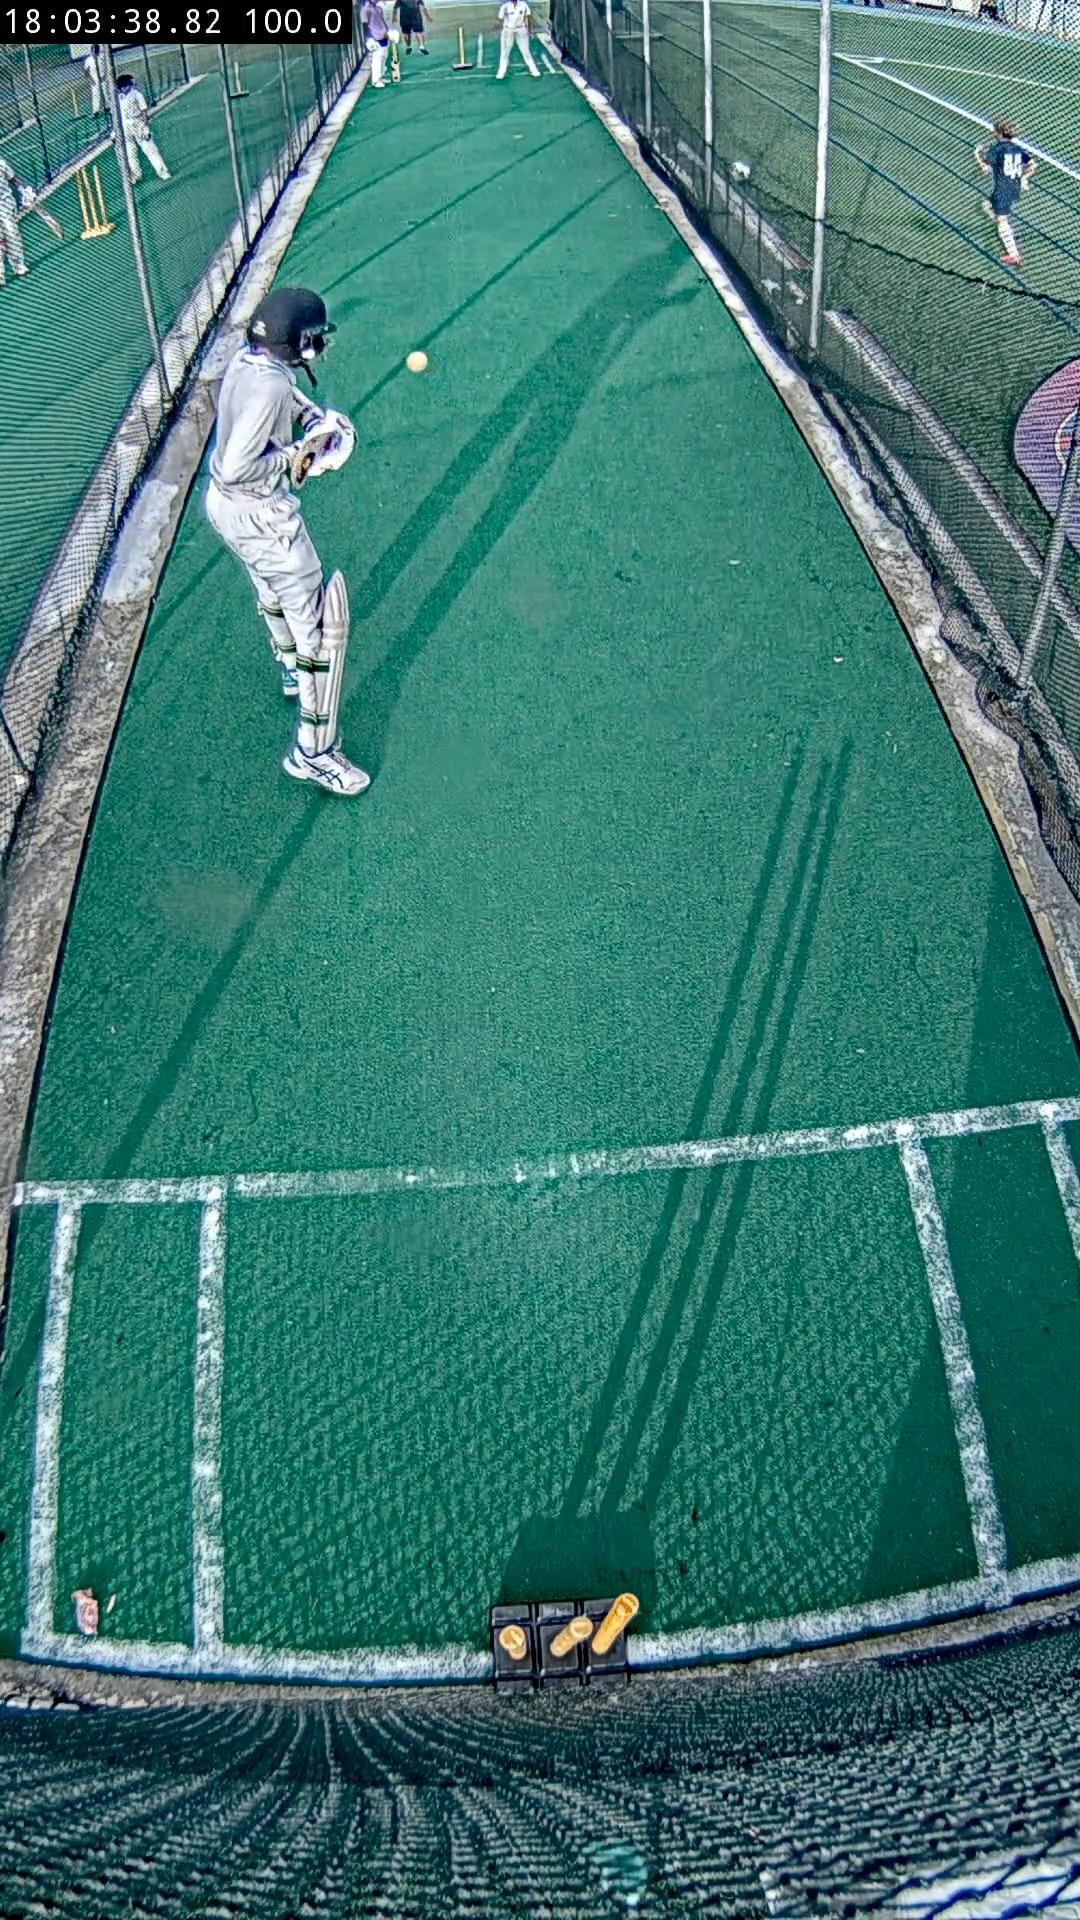ball: (405, 352, 427, 372)
bat: (294, 433, 332, 492)
gloves: (295, 406, 352, 481)
helmet: (248, 289, 334, 368)
pads: (315, 570, 348, 754)
stumps: (492, 1594, 641, 1695)
